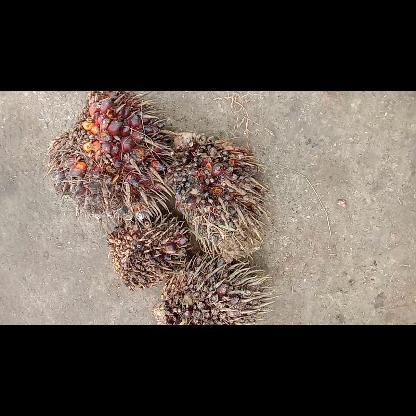TBS abnormal: (166, 131, 262, 257), (153, 256, 267, 324), (107, 219, 196, 286)
TBS masak: (48, 91, 170, 213)
